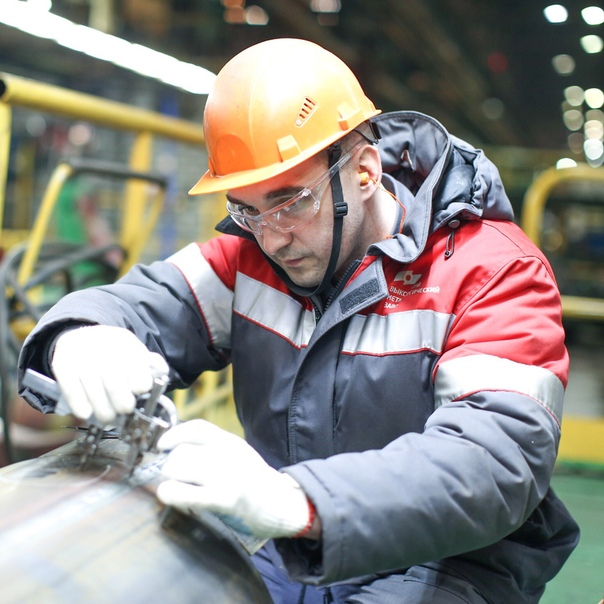person: (17, 36, 582, 604)
